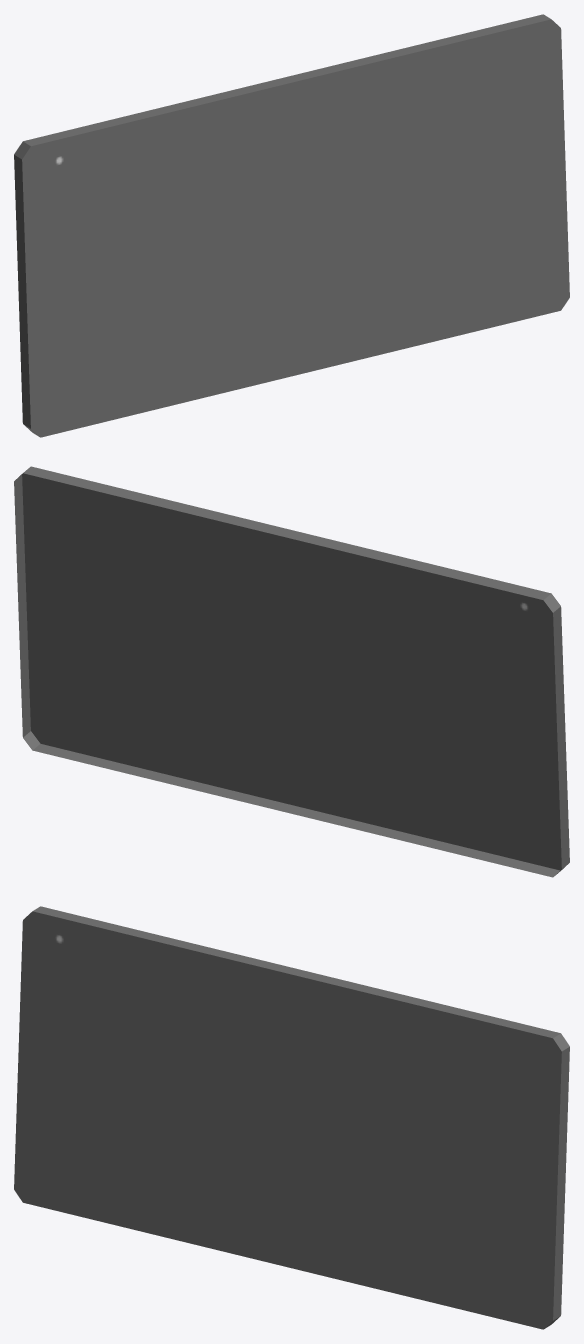
Rendered from StandA1.fbx.
3 views of the same model, one above another, from view 1: azimuth 30°, elevation 25°; view 2: azimuth 150°, elevation 25°; view 3: azimuth 330°, elevation 25° (orthographic).
Visible parts, largest first — view 1: StandA1; view 2: StandA1; view 3: StandA1.
Part boxes in pixels (left/top/right/bottom): StandA1: left=14, top=14, right=569, bottom=437; StandA1: left=14, top=466, right=569, bottom=877; StandA1: left=14, top=906, right=569, bottom=1329.
Size of the model in its own units: 87.86 by 44.43 by 5.
